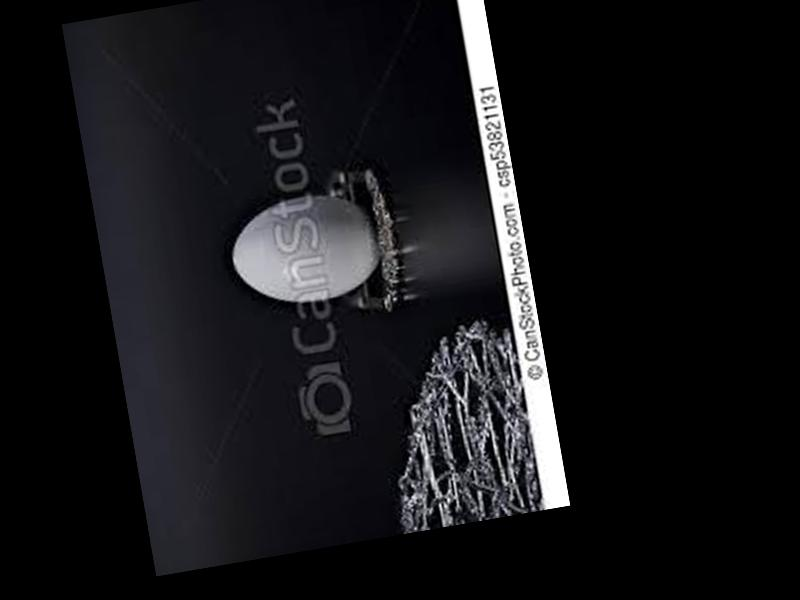Eggs: (224, 185, 387, 314)
